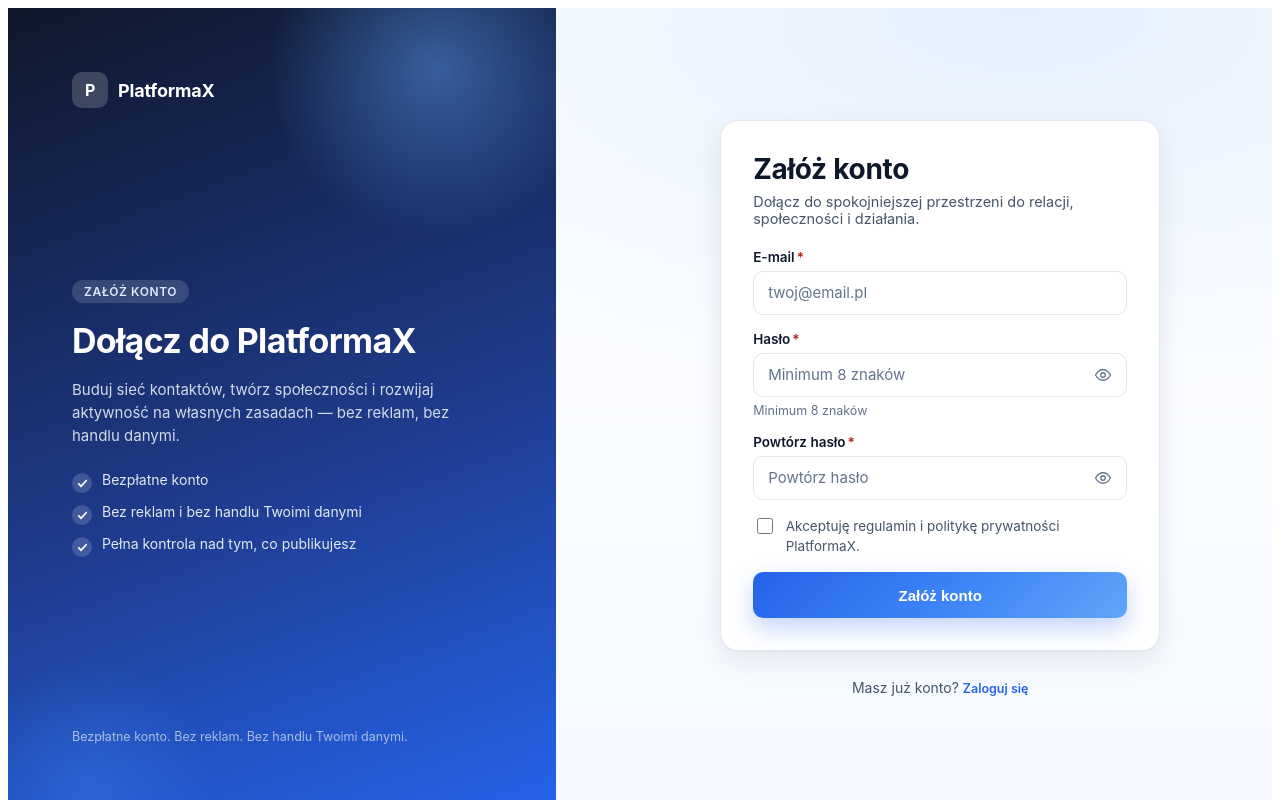
Test case: RegisterRoute › shows error when passwords mismatch
Type "anna@example.org" into the field labelled "E-mail*". click: (940,292)
box: [753,270,1127,314]
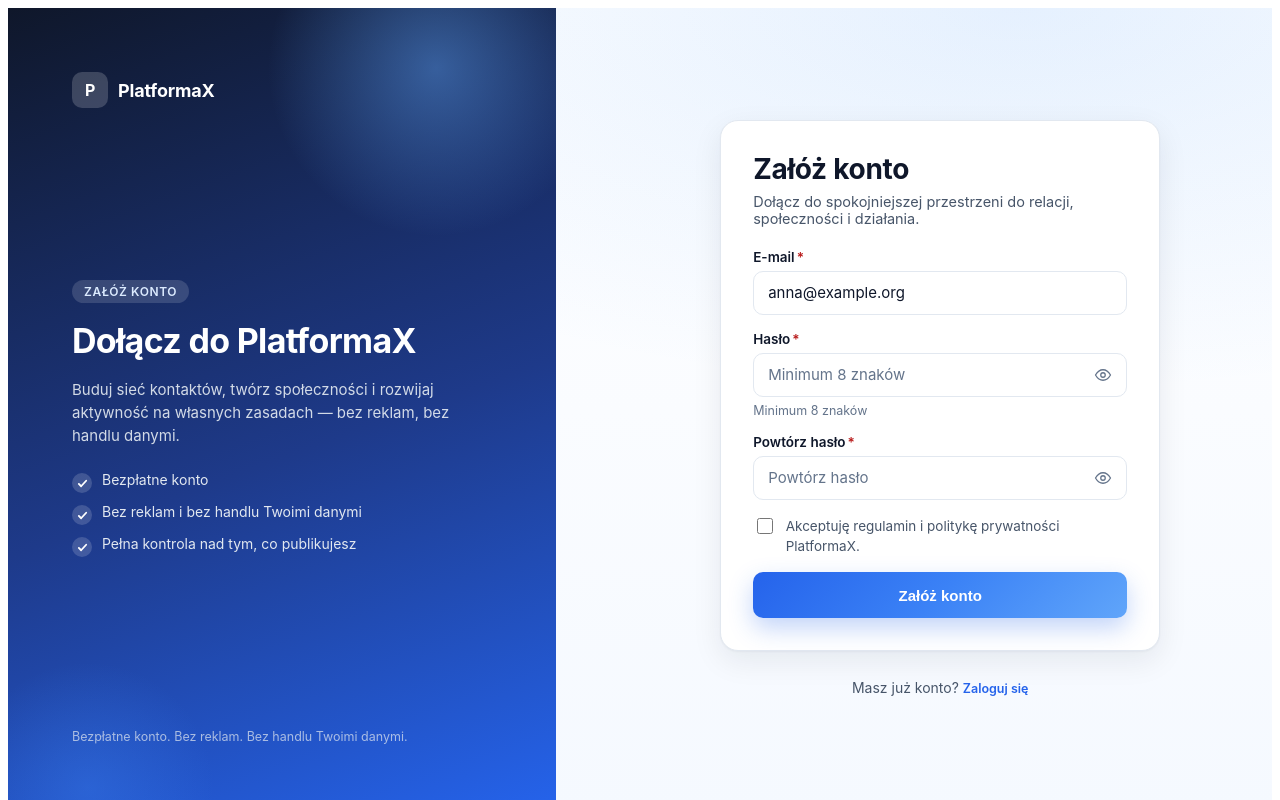
Type "haslo1234" into the password field labelled "Hasło*". click: (940,374)
box: [753,352,1127,396]
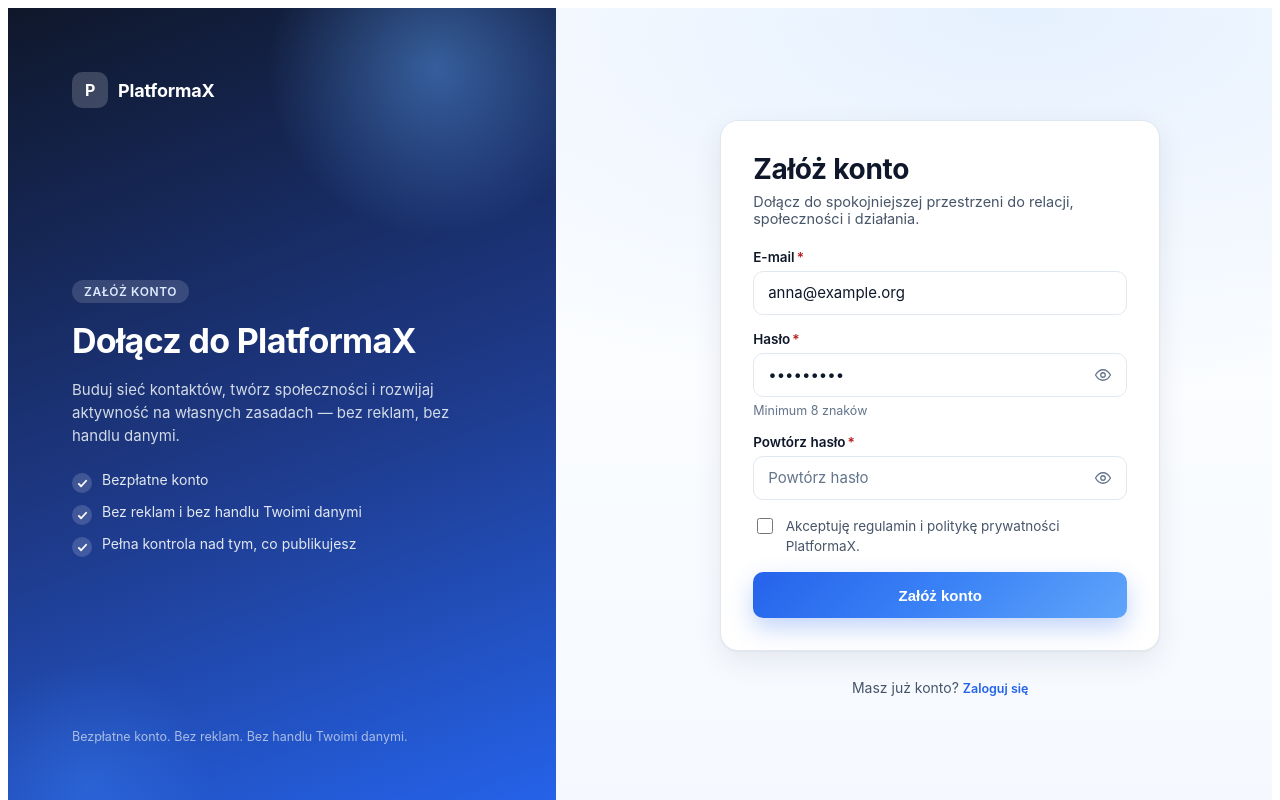
Type "INNE12345" into the password field labelled "Powtórz hasło*". click: (940,478)
box: [753,456,1127,500]
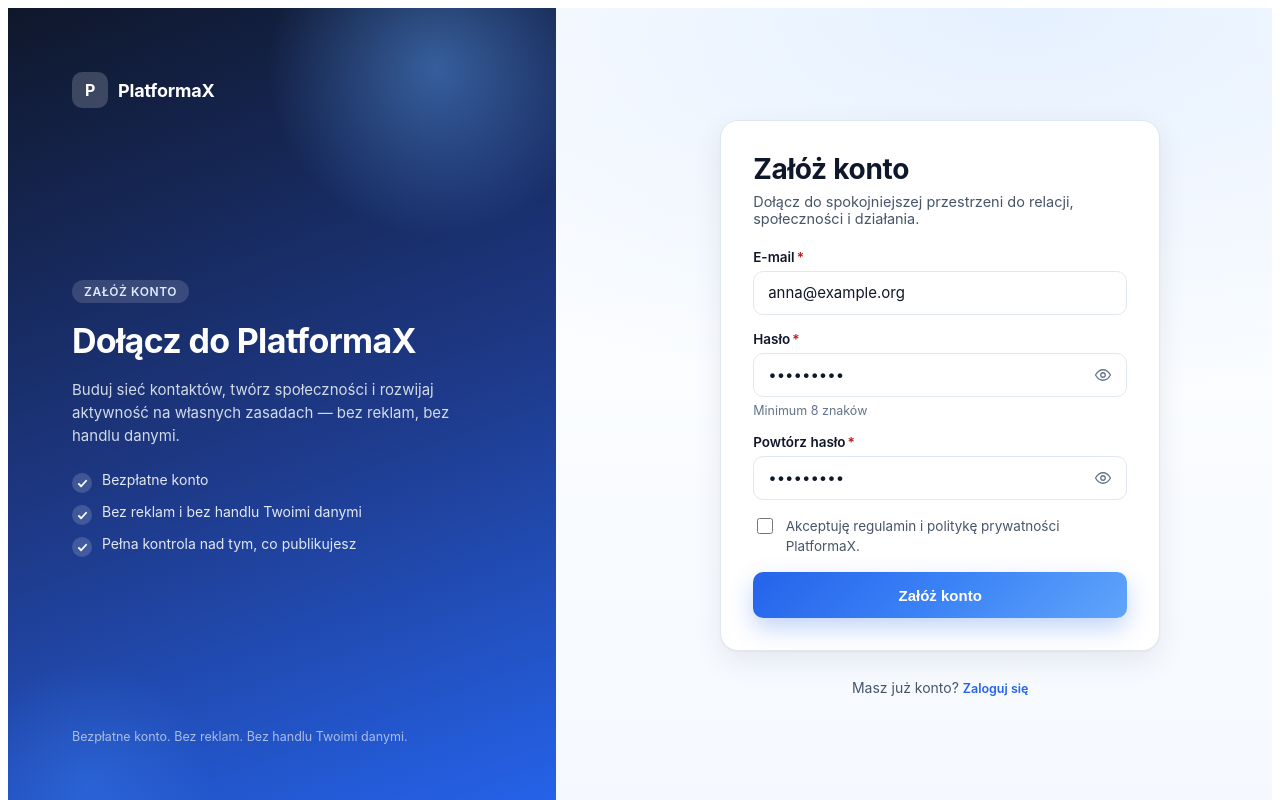
Click the checkbox. click: (765,526)
box: [757,518,773,534]
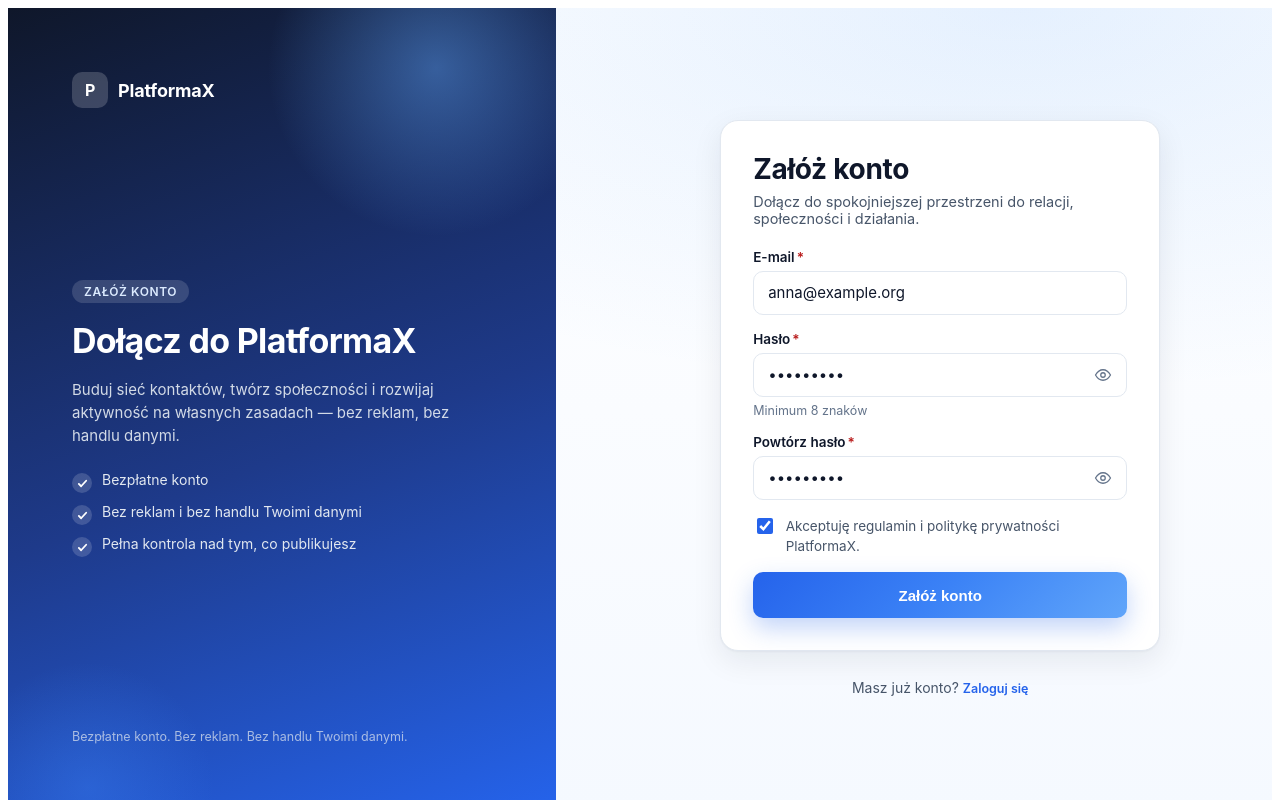
Click the button "Załóż konto". click: (940,595)
box: [753,572,1127,618]
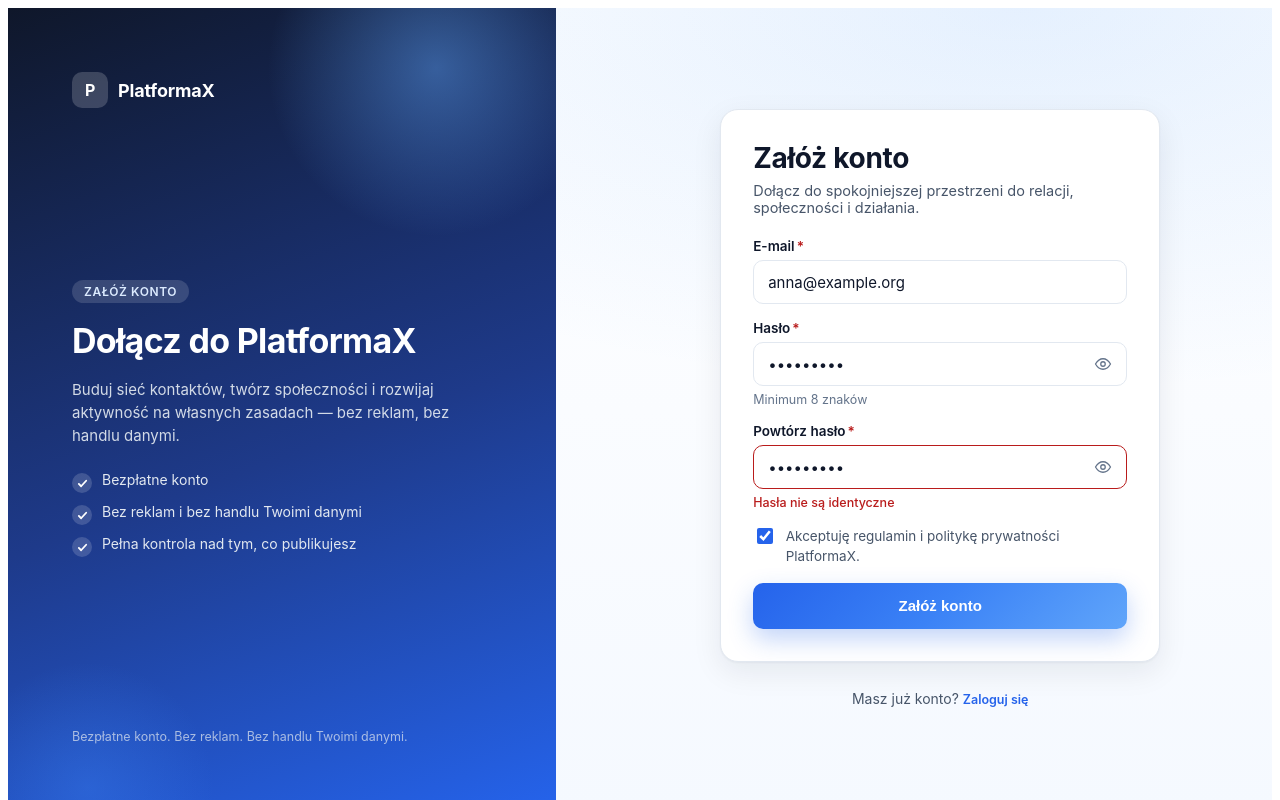
Result: the text "Hasła nie są identyczne" is shown at [753,495,894,510]
